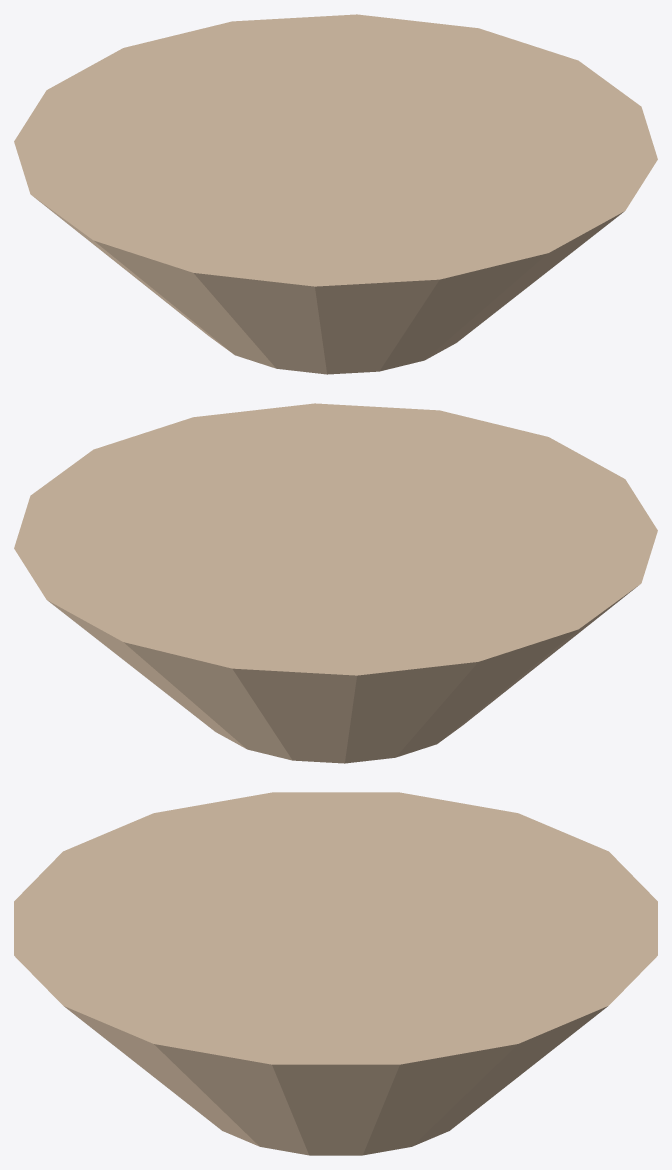
The model's file is us small mount collider.obj.
3 views of the same model, one above another, from view 1: azimuth 30°, elevation 25°; view 2: azimuth 150°, elevation 25°; view 3: azimuth 270°, elevation 25° (orthographic).
Visible parts, largest first — view 1: c; view 2: c; view 3: c.
Boxes of the visible parts, bbox=[...] form: c: bbox=[14, 14, 657, 374]; c: bbox=[14, 403, 657, 763]; c: bbox=[14, 792, 657, 1155].
Size of the model in its own units: 1.5 by 0.4375 by 1.5.
